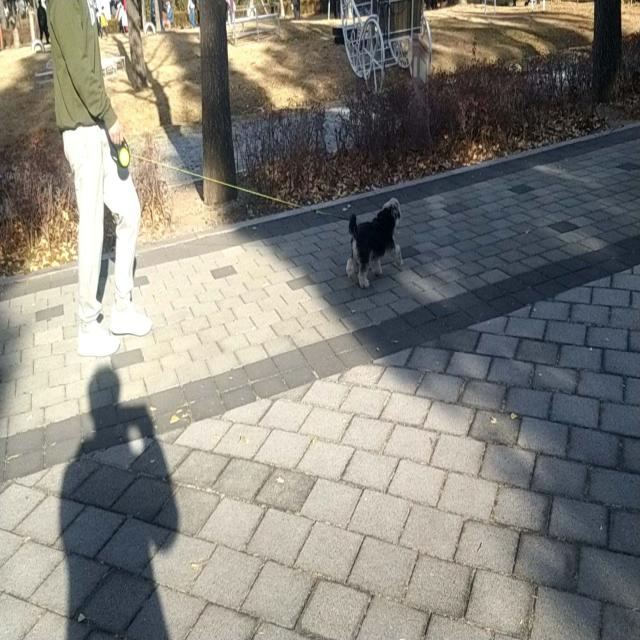Leashed_Dog: (99, 115, 404, 288)
